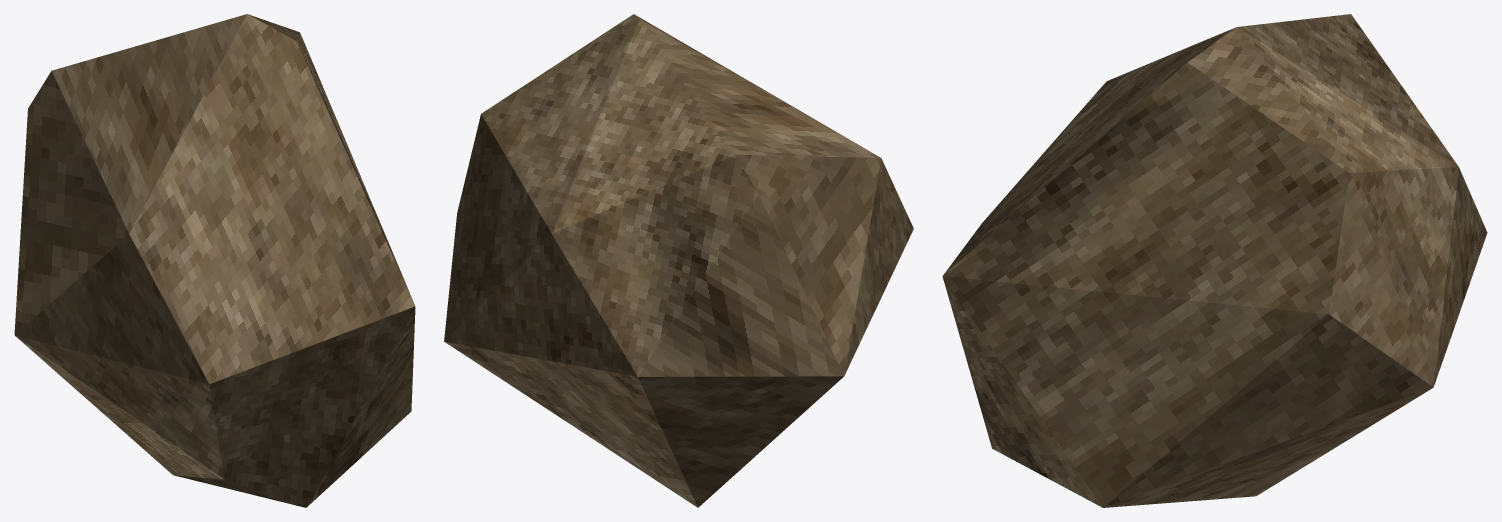
File: Rock.fbx
3 views of the same model, side by side, from view 1: azimuth 30°, elevation 25°; view 2: azimuth 150°, elevation 25°; view 3: azimuth 270°, elevation 25° (orthographic). The views are drawn at different scales.
Parts seen in each view (by area): view 1: Rock; view 2: Rock; view 3: Rock.
Boxes of the visible parts, x1,y1,x2,y2 form: Rock: [14, 14, 415, 507]; Rock: [444, 14, 913, 507]; Rock: [942, 14, 1487, 507].
Bounding box in the file's own units: 169 × 208 × 203.
Materials: 1 (1 with a texture image).
